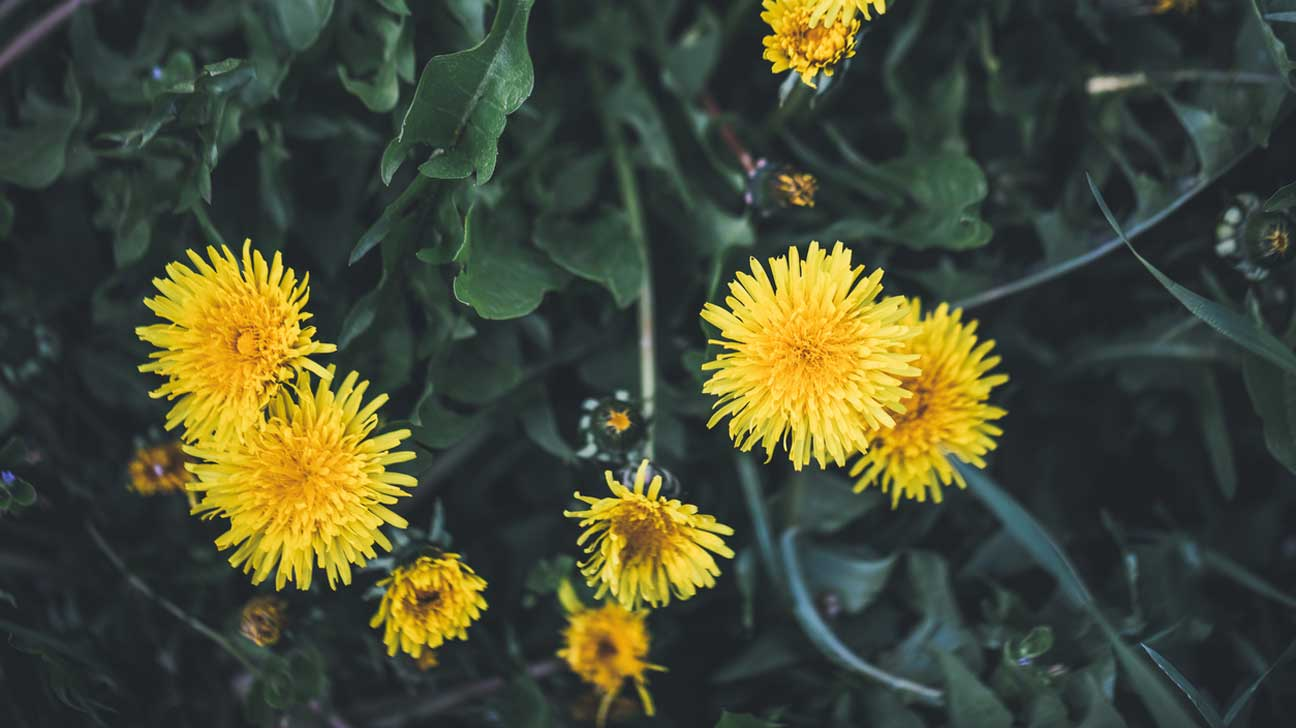begonvil: (168, 370, 415, 609), (691, 243, 916, 483), (133, 228, 323, 429), (901, 291, 1030, 535), (561, 455, 736, 611), (366, 546, 503, 685), (551, 593, 681, 719), (753, 6, 896, 113)
